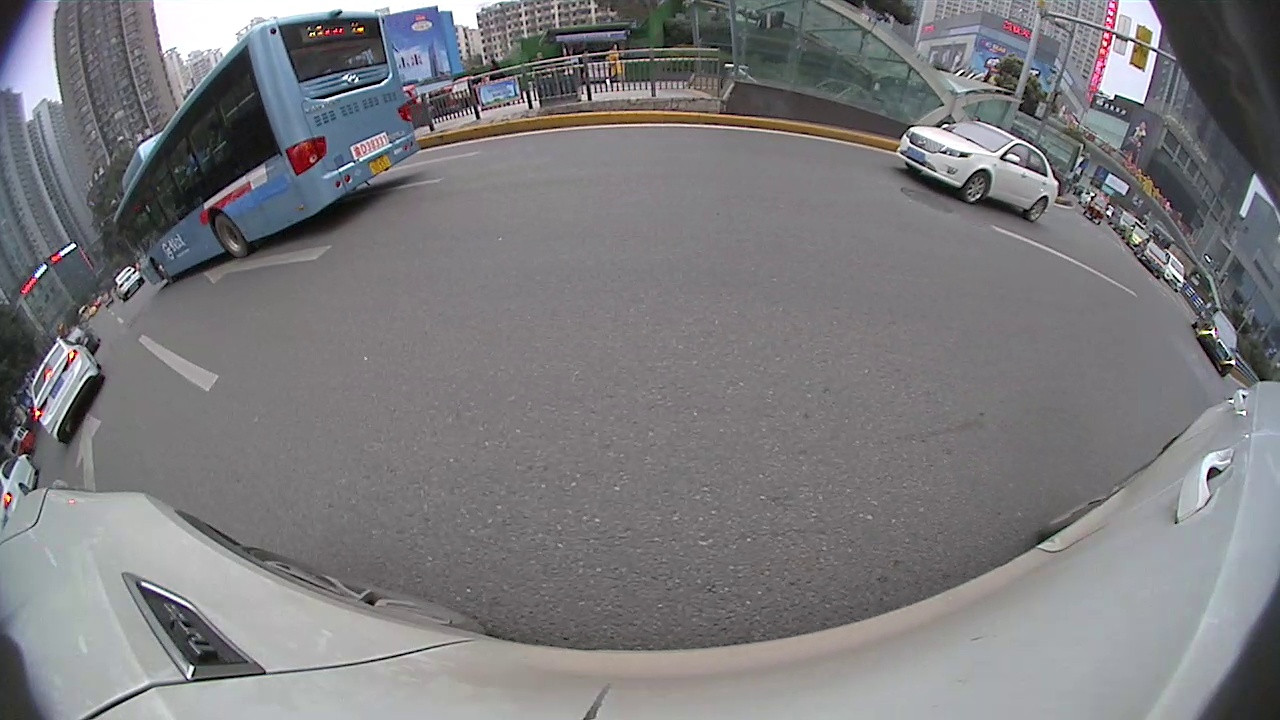bus: (111, 8, 424, 288)
car: (894, 118, 1059, 223), (27, 334, 105, 450), (1194, 308, 1240, 376), (1, 453, 42, 518), (67, 323, 104, 355), (114, 266, 146, 303), (1138, 238, 1168, 276), (1162, 252, 1187, 291)
front: (961, 171, 990, 206), (151, 262, 172, 283)
rear: (213, 214, 252, 260), (1023, 197, 1049, 223)
